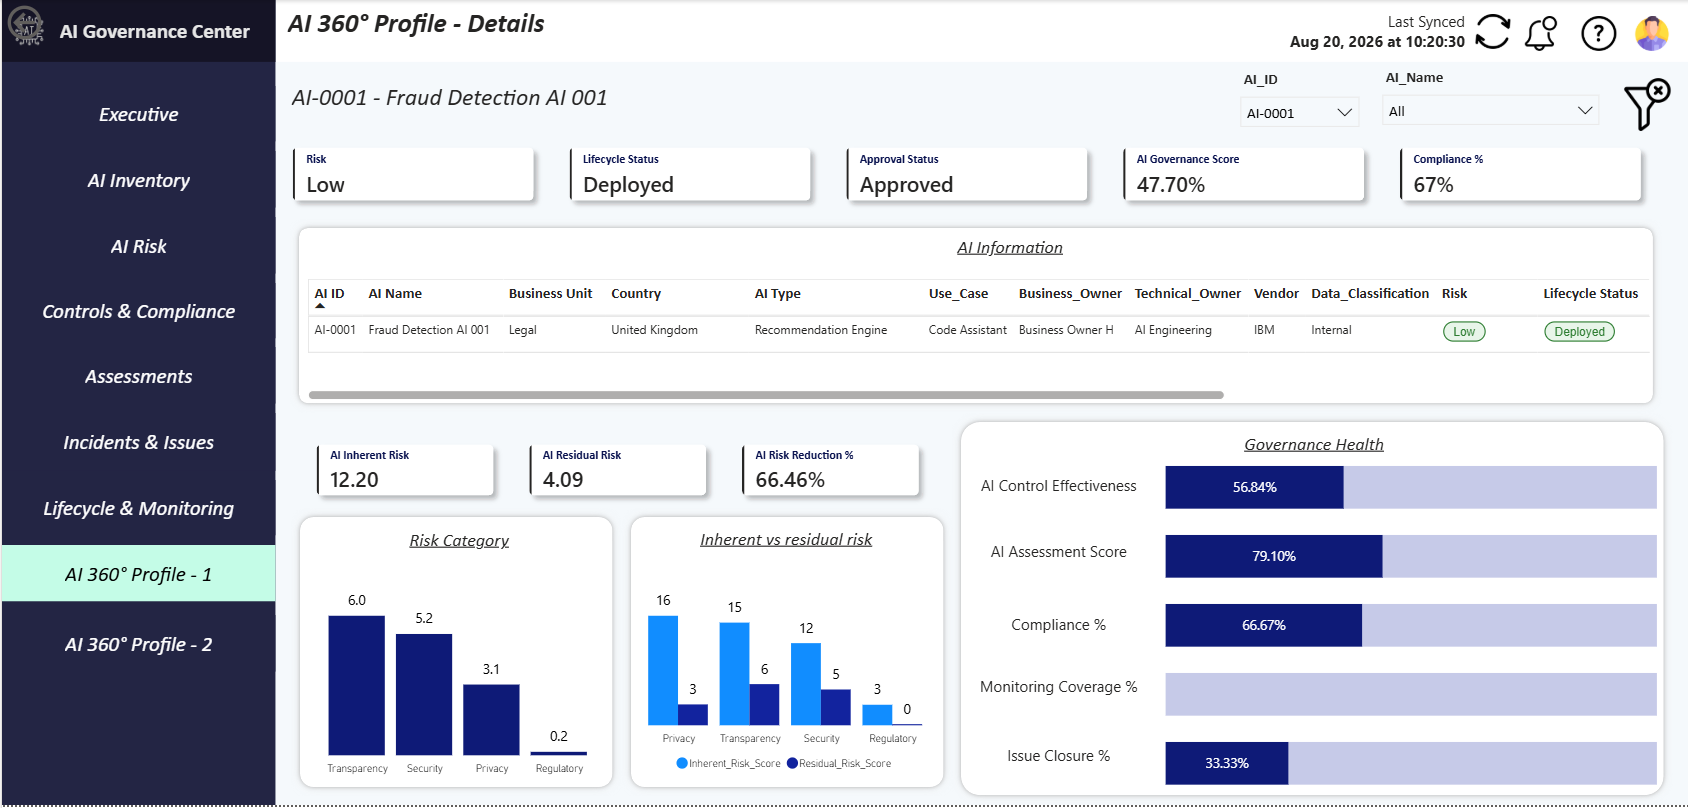

The dashboard page shown, as its layout file describes it:
{"tool":"powerbi","page":{"name":"AI 360° Profile - 1","canvas":[1500,715],"ordinal":7},"visuals":[{"type":"shape","box":[0,0,1500,720.5],"z":0},{"type":"shape","box":[0,0,243.4,715.7],"z":1000},{"type":"shape","box":[0,0,243.4,55.2],"z":2000},{"type":"shape","box":[243.4,0,1256.6,55.2],"z":3000},{"type":"textbox","box":[46,10.2,186.1,33.7],"z":4000},{"type":"image","box":[1446.8,14.3,39.5,31.1],"z":5000},{"type":"image","box":[1347.6,14.3,38.6,31.1],"z":6000},{"type":"cardVisual","fields":{"Data":["Min(AI_Inventory.Risk_Tier)","Min(AI_Inventory.Lifecycle_Status)","Min(AI_Inventory.Approval_Status)","_Measures (2).AI Governance Score","_Measures (2).Compliance %"]},"box":[229,102.2,1257.7,105.3],"z":7000},{"type":"shape","box":[256,195,1219.1,171.7],"z":8000},{"type":"textbox","box":[800.2,204.7,192.4,38],"z":9000},{"type":"shape","box":[256.8,451,293.7,256],"z":10000},{"type":"shape","box":[844.1,367.2,640.4,347.6],"z":11000},{"type":"textbox","box":[293.2,464.8,226,38],"z":12000},{"type":"textbox","box":[1052.6,379.5,226,38],"z":13000},{"type":"image","box":[9.2,14.3,30.7,25.6],"z":14000},{"type":"image","box":[1399.8,14.3,39,31],"z":15000},{"type":"textbox","box":[1100.7,5.1,204.2,44.9],"z":16000},{"type":"image","box":[1305,12.3,39,31],"z":17000},{"type":"shape","box":[0,76.2,242.9,49.5],"z":18000},{"type":"shape","box":[0,484,243,50],"z":19000},{"type":"shape","box":[0,426.5,243,49],"z":20000},{"type":"shape","box":[550.6,451,293.7,256],"z":21000},{"type":"shape","box":[0,192.6,243,50],"z":22000},{"type":"shape","box":[0,367,243,51.1],"z":23000},{"type":"shape","box":[0,308.5,243,50],"z":24000},{"type":"shape","box":[0,251.1,243,49],"z":25000},{"type":"shape","box":[0,134.1,243,50],"z":26000},{"type":"cardVisual","fields":{"Data":["Min(AI_Inventory.AI ID_ Name)"]},"box":[228.3,55.2,732.4,59.9],"z":27000},{"type":"tableEx","fields":{"Values":["AI_Inventory.AI_ID","AI_Inventory.AI_Name","AI_Inventory.Business_Unit","AI_Inventory.Country","AI_Inventory.AI_Type","AI_Inventory.Use_Case","AI_Inventory.Business_Owner","AI_Inventory.Technical_Owner","AI_Inventory.Vendor","AI_Inventory.Data_Classification","_Measures.Chip","_Measures.Chip_Lifecycle"]},"box":[265.7,242.4,1203,118],"z":28000},{"type":"cardVisual","fields":{"Data":["AI_Inventory.AI Inherent Risk","AI_Inventory.AI Residual Risk","AI_Inventory.AI Risk Reduction %"]},"box":[250.6,366.1,594.7,103.5],"z":29000},{"type":"columnChart","fields":{"Category":["Fact_Risk.Risk_Category"],"Y":["Avg(Fact_Risk.Residual_Risk_Score)"]},"box":[261.6,508.8,288.9,187],"z":30000},{"type":"clusteredColumnChart","fields":{"Category":["Fact_Risk.Risk_Category"],"Y":["Avg(Fact_Risk.Inherent_Risk_Score)","Avg(Fact_Risk.Residual_Risk_Score)"]},"box":[544.1,508.8,305.8,187],"z":31000},{"type":"textbox","box":[583.8,463.9,226,38],"z":32000},{"type":"shape","box":[0,546.5,243,50],"z":33000},{"type":"barChart","fields":{"Y":["AI_Inventory.AI Control Effectiveness","AI_Inventory.dummy"]},"box":[1028.9,396.7,446.6,65.4],"z":34000},{"type":"barChart","fields":{"Y":["AI_Inventory.AI Assessment Score","AI_Inventory.dummy"]},"box":[1028.9,457.8,446.6,65.4],"z":35000},{"type":"barChart","fields":{"Y":["_Measures.Compliance %%","AI_Inventory.dummy"]},"box":[1028.9,518.9,446.6,65.4],"z":36000},{"type":"barChart","fields":{"Y":["_Measures.Monitoring Coverage %","AI_Inventory.dummy"]},"box":[1028.9,580.1,446.6,65.4],"z":37000},{"type":"barChart","fields":{"Y":["_Measures.Issue Closure %","AI_Inventory.dummy"]},"box":[1028.9,641.2,446.6,65.4],"z":38000},{"type":"textbox","box":[849.8,417.9,179.1,32.7],"z":39000},{"type":"textbox","box":[849.8,476,179.1,32.7],"z":40000},{"type":"textbox","box":[849.8,541.4,179.1,32.7],"z":41000},{"type":"textbox","box":[849.8,596.2,179.1,32.7],"z":42000},{"type":"textbox","box":[849.8,657.6,179.1,32.7],"z":43000},{"type":"textbox","box":[249.2,0,267.3,60.9],"z":44000},{"type":"slicer","fields":{"Values":["AI_Inventory.AI_ID"]},"box":[1090,57.1,125.6,70.4],"z":45000},{"type":"slicer","fields":{"Values":["AI_Inventory.AI_Name"]},"box":[1216.6,55.2,213.1,70.4],"z":46000},{"type":"image","box":[1439,68,46.8,49.5],"z":47000},{"type":"actionButton","box":[0,0,100,40],"z":48000}]}

Visuals, with their boxes on the page's 1500x715 design canvas (x1, y1, x2, y2). These are canvas units, not pixel positions in the 1688x808 screenshot, which may show the page scaled, cropped or inside an application window:
shape: box=[0, 0, 1500, 720]
shape: box=[0, 0, 243, 716]
shape: box=[0, 0, 243, 55]
shape: box=[243, 0, 1500, 55]
textbox: box=[46, 10, 232, 44]
image: box=[1447, 14, 1486, 45]
image: box=[1348, 14, 1386, 45]
cardVisual - Min(AI_Inventory.Risk_Tier) x Min(AI_Inventory.Lifecycle_Status): box=[229, 102, 1487, 208]
shape: box=[256, 195, 1475, 367]
textbox: box=[800, 205, 993, 243]
shape: box=[257, 451, 550, 707]
shape: box=[844, 367, 1484, 715]
textbox: box=[293, 465, 519, 503]
textbox: box=[1053, 380, 1279, 418]
image: box=[9, 14, 40, 40]
image: box=[1400, 14, 1439, 45]
textbox: box=[1101, 5, 1305, 50]
image: box=[1305, 12, 1344, 43]
shape: box=[0, 76, 243, 126]
shape: box=[0, 484, 243, 534]
shape: box=[0, 426, 243, 476]
shape: box=[551, 451, 844, 707]
shape: box=[0, 193, 243, 243]
shape: box=[0, 367, 243, 418]
shape: box=[0, 308, 243, 358]
shape: box=[0, 251, 243, 300]
shape: box=[0, 134, 243, 184]
cardVisual - Min(AI_Inventory.AI ID_ Name): box=[228, 55, 961, 115]
tableEx - AI_Inventory.AI_ID x AI_Inventory.AI_Name: box=[266, 242, 1469, 360]
cardVisual - AI_Inventory.AI Inherent Risk x AI_Inventory.AI Residual Risk: box=[251, 366, 845, 470]
columnChart - Fact_Risk.Risk_Category x Avg(Fact_Risk.Residual_Risk_Score): box=[262, 509, 550, 696]
clusteredColumnChart - Fact_Risk.Risk_Category x Avg(Fact_Risk.Inherent_Risk_Score): box=[544, 509, 850, 696]
textbox: box=[584, 464, 810, 502]
shape: box=[0, 546, 243, 596]
barChart - AI_Inventory.AI Control Effectiveness x AI_Inventory.dummy: box=[1029, 397, 1476, 462]
barChart - AI_Inventory.AI Assessment Score x AI_Inventory.dummy: box=[1029, 458, 1476, 523]
barChart - _Measures.Compliance %% x AI_Inventory.dummy: box=[1029, 519, 1476, 584]
barChart - _Measures.Monitoring Coverage % x AI_Inventory.dummy: box=[1029, 580, 1476, 646]
barChart - _Measures.Issue Closure % x AI_Inventory.dummy: box=[1029, 641, 1476, 707]
textbox: box=[850, 418, 1029, 451]
textbox: box=[850, 476, 1029, 509]
textbox: box=[850, 541, 1029, 574]
textbox: box=[850, 596, 1029, 629]
textbox: box=[850, 658, 1029, 690]
textbox: box=[249, 0, 516, 61]
slicer - AI_Inventory.AI_ID: box=[1090, 57, 1216, 128]
slicer - AI_Inventory.AI_Name: box=[1217, 55, 1430, 126]
image: box=[1439, 68, 1486, 118]
actionButton: box=[0, 0, 100, 40]
